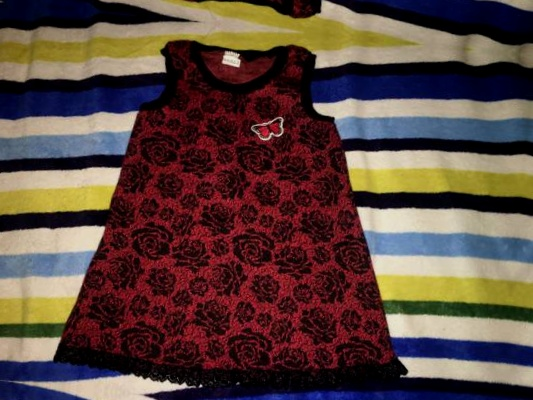Dress: (54, 26, 453, 400), (93, 0, 492, 32), (16, 399, 415, 400)
